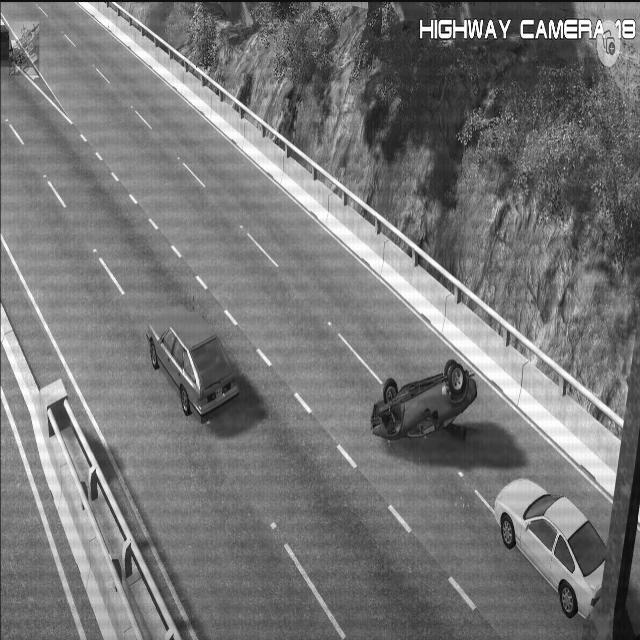accident: (370, 350, 480, 448)
vehicle: (494, 468, 624, 622), (145, 301, 243, 427)
